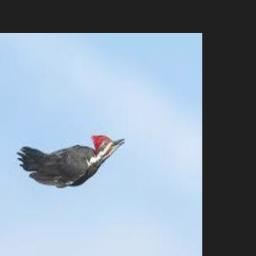Woodpecker: (15, 135, 124, 186)
